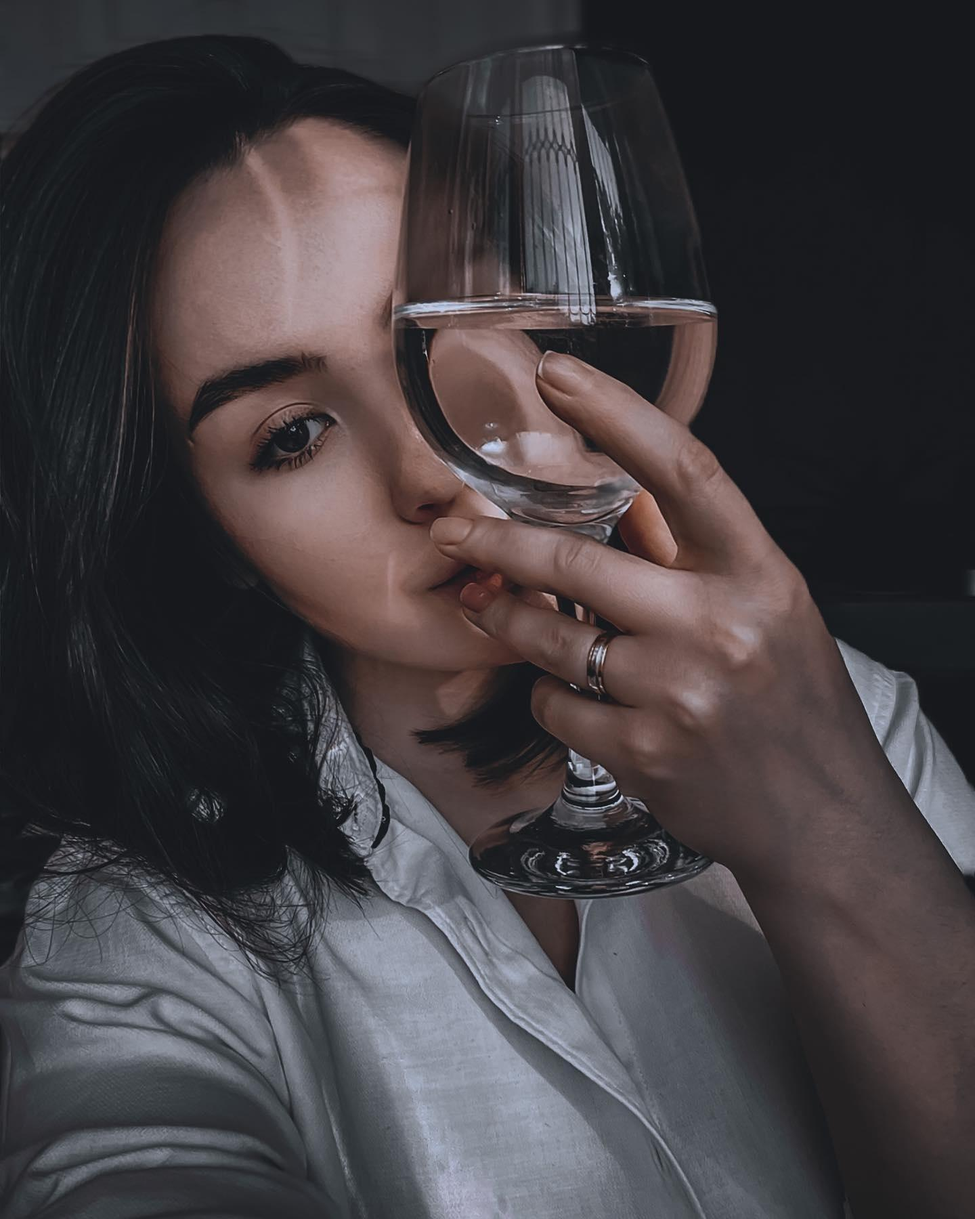glass-wine: (385, 40, 726, 907)
